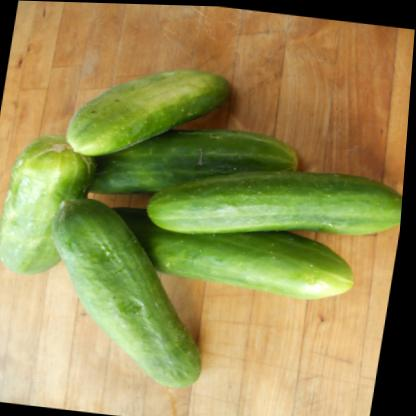--: (24, 192, 242, 393), (136, 146, 408, 261), (57, 51, 238, 173), (0, 124, 104, 292)
